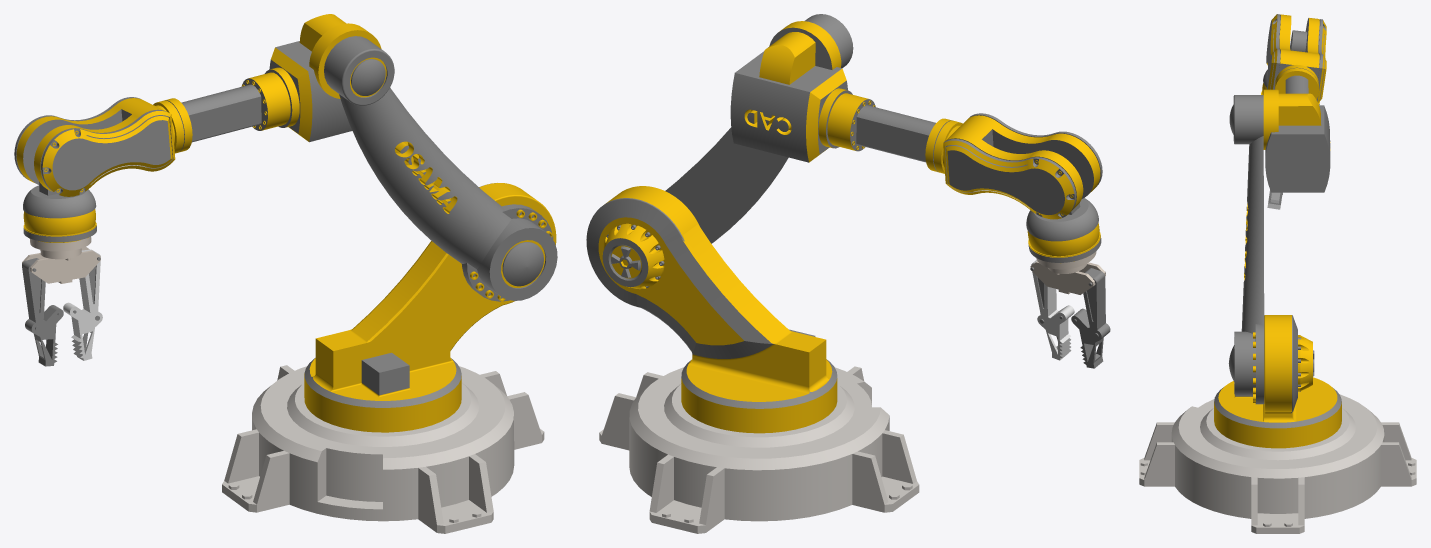
3 views of the same model, side by side, from view 1: azimuth 30°, elevation 25°; view 2: azimuth 150°, elevation 25°; view 3: azimuth 270°, elevation 25° (orthographic). The views are drawn at different scales.
Parts seen in each view (by area): view 1: Body_1 (×2), 3DGeom-527, 3DGeom-288, 3DGeom-836, 3DGeom-651, 3DGeom-652, 3DGeom-835, 3DGeom-1046 (×2), 3DGeom-286, 3DGeom-924, 3DGeom-528, 3DGeom-923; view 2: Body_1 (×2), 3DGeom-288, 3DGeom-652, 3DGeom-286, 3DGeom-527, 3DGeom-651, 3DGeom-836, 3DGeom-835, 3DGeom-1046 (×2), 3DGeom-924, 3DGeom-923; view 3: Body_1, 3DGeom-288, 3DGeom-527, 3DGeom-652, 3DGeom-651, 3DGeom-835, 3DGeom-286, 3DGeom-836, 3DGeom-924.
Boxes of the visible parts, x1=… form: Body_1 (×2): x1=22, y1=236, x2=544, y2=533; 3DGeom-527: x1=324, y1=36, x2=557, y2=301; 3DGeom-288: x1=304, y1=183, x2=556, y2=432; 3DGeom-836: x1=14, y1=97, x2=173, y2=194; 3DGeom-651: x1=153, y1=14, x2=381, y2=153; 3DGeom-652: x1=165, y1=41, x2=352, y2=151; 3DGeom-835: x1=16, y1=98, x2=175, y2=196; 3DGeom-1046 (×2): x1=22, y1=249, x2=102, y2=366; 3DGeom-286: x1=304, y1=183, x2=495, y2=407; 3DGeom-924: x1=23, y1=181, x2=96, y2=242; 3DGeom-528: x1=350, y1=57, x2=552, y2=301; 3DGeom-923: x1=23, y1=209, x2=96, y2=242; Body_1 (×2): x1=599, y1=251, x2=1105, y2=533; 3DGeom-288: x1=598, y1=186, x2=837, y2=433; 3DGeom-652: x1=730, y1=27, x2=952, y2=171; 3DGeom-286: x1=586, y1=198, x2=837, y2=408; 3DGeom-527: x1=665, y1=14, x2=853, y2=243; 3DGeom-651: x1=744, y1=21, x2=962, y2=173; 3DGeom-836: x1=943, y1=113, x2=1102, y2=217; 3DGeom-835: x1=942, y1=115, x2=1100, y2=219; 3DGeom-1046 (×2): x1=1031, y1=260, x2=1110, y2=368; 3DGeom-924: x1=1026, y1=198, x2=1101, y2=262; 3DGeom-923: x1=1027, y1=223, x2=1100, y2=263; Body_1: x1=1139, y1=394, x2=1416, y2=533; 3DGeom-288: x1=1214, y1=315, x2=1341, y2=448; 3DGeom-527: x1=1228, y1=95, x2=1264, y2=404; 3DGeom-652: x1=1265, y1=67, x2=1330, y2=192; 3DGeom-651: x1=1263, y1=65, x2=1330, y2=150; 3DGeom-835: x1=1266, y1=14, x2=1326, y2=102; 3DGeom-286: x1=1214, y1=315, x2=1341, y2=428; 3DGeom-836: x1=1266, y1=14, x2=1326, y2=101; 3DGeom-924: x1=1263, y1=30, x2=1319, y2=104.
Size of the model in its own units: 0.6842 by 0.5698 by 0.3905.
